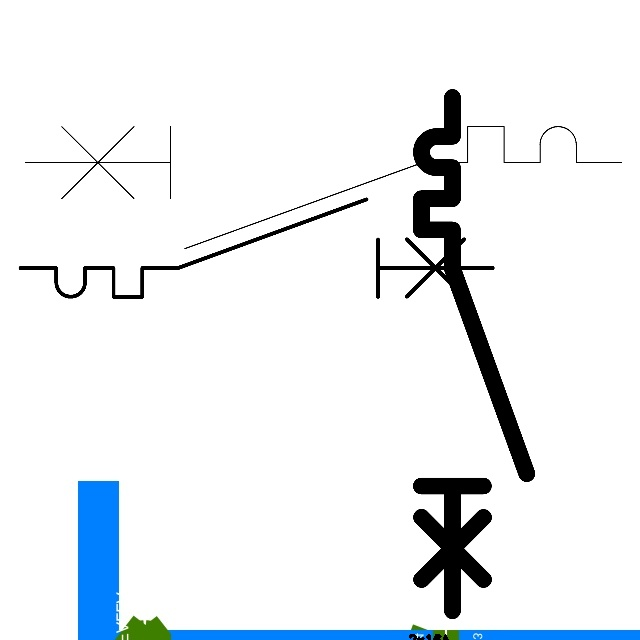interruptor_termomagnetico: (10, 111, 637, 264), (408, 84, 540, 624), (8, 187, 505, 309)
